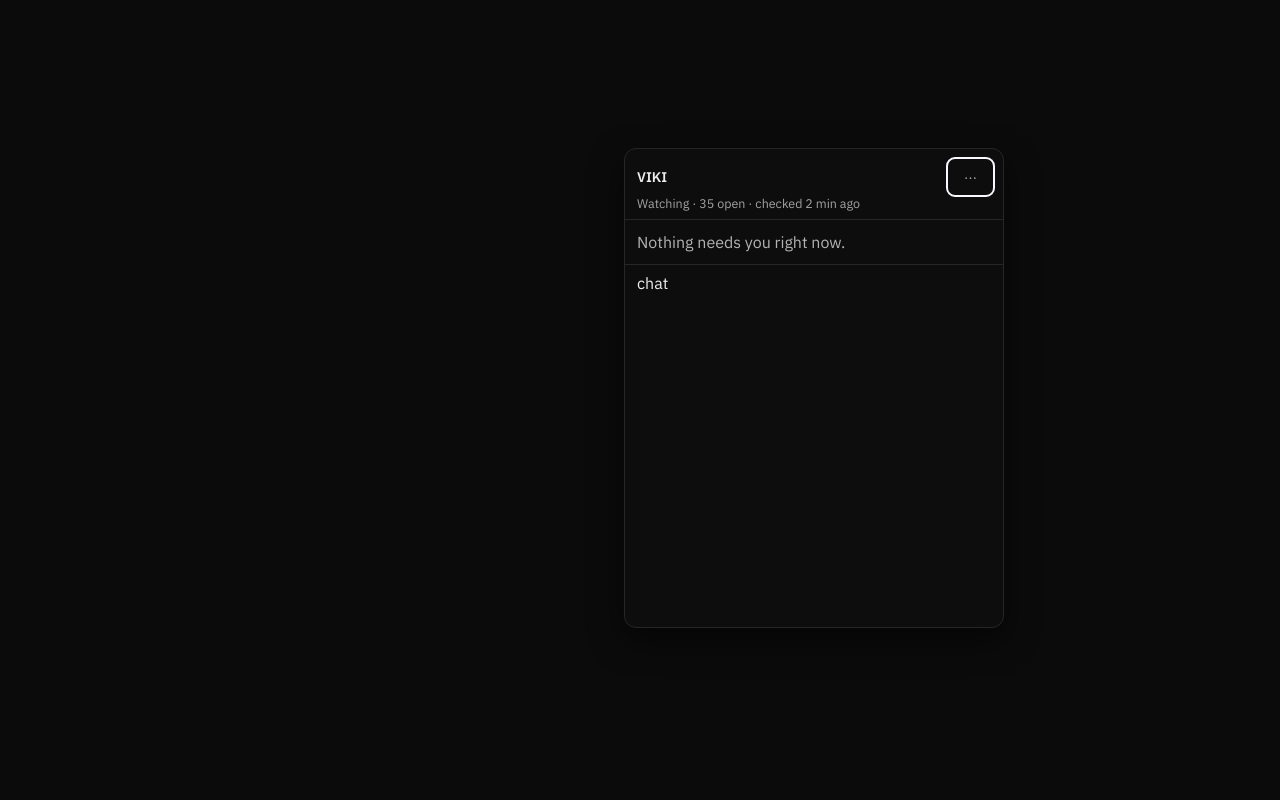
Test case: the header menu › a row calls onMenu with its own choice, closes the menu and returns focus to the toggle
Click the button named "More": {"x": 970, "y": 177} x1=950 y1=161 x2=991 y2=193
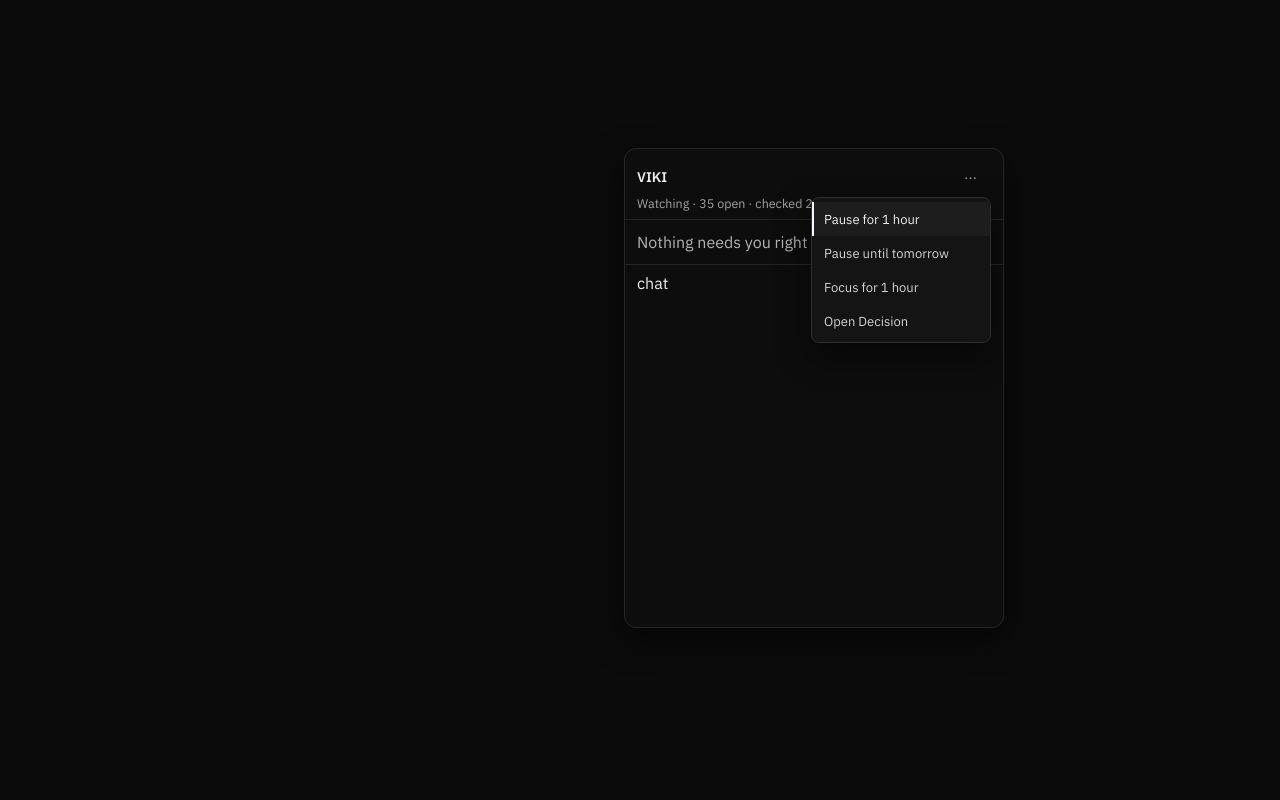
Click the menu item "Open Decision": {"x": 901, "y": 321} x1=812 y1=304 x2=990 y2=338
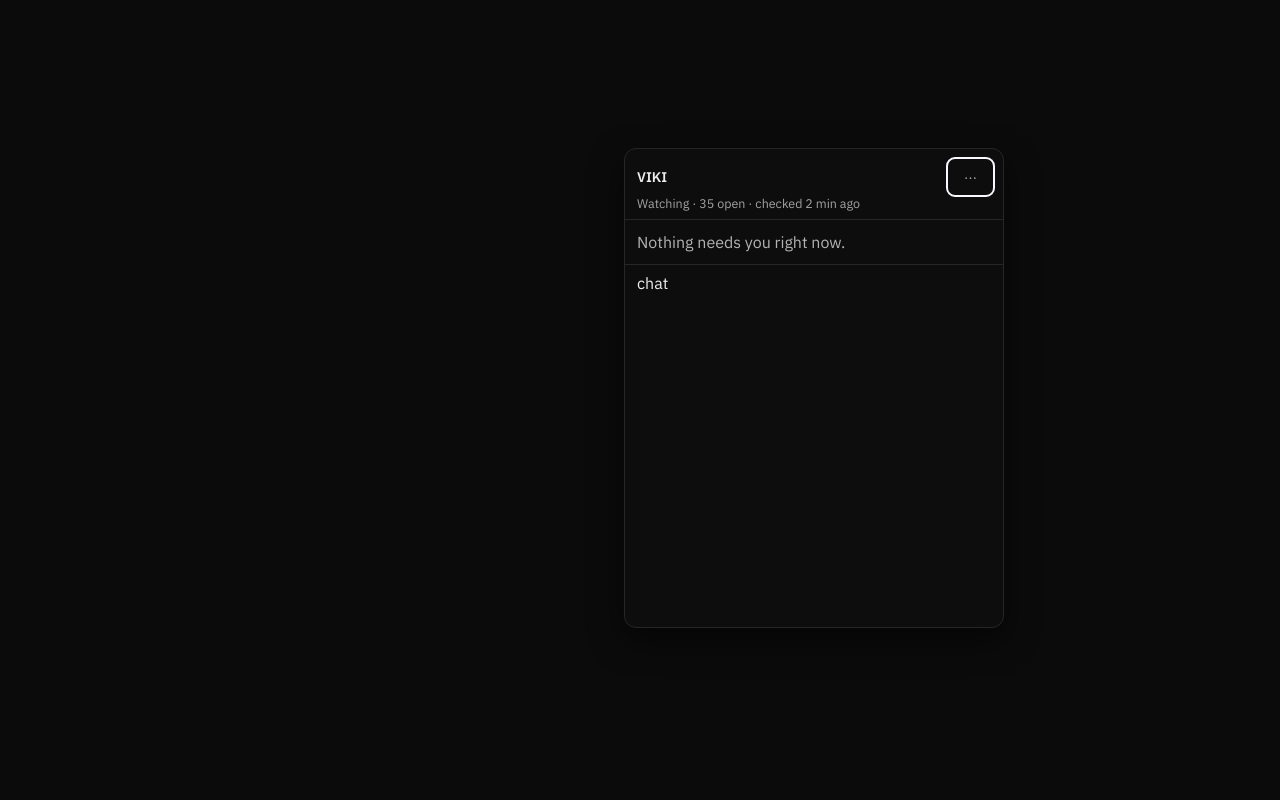
Check: the menu is gone
